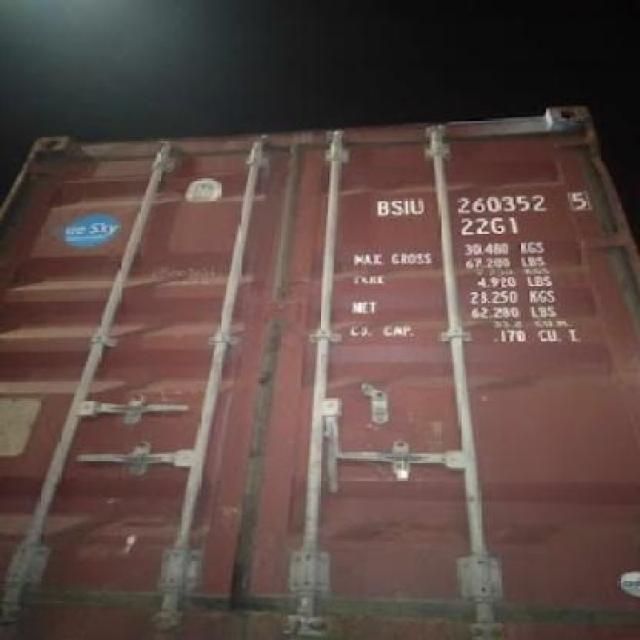ISO: (458, 216, 520, 237)
container_number: (370, 187, 580, 215)
